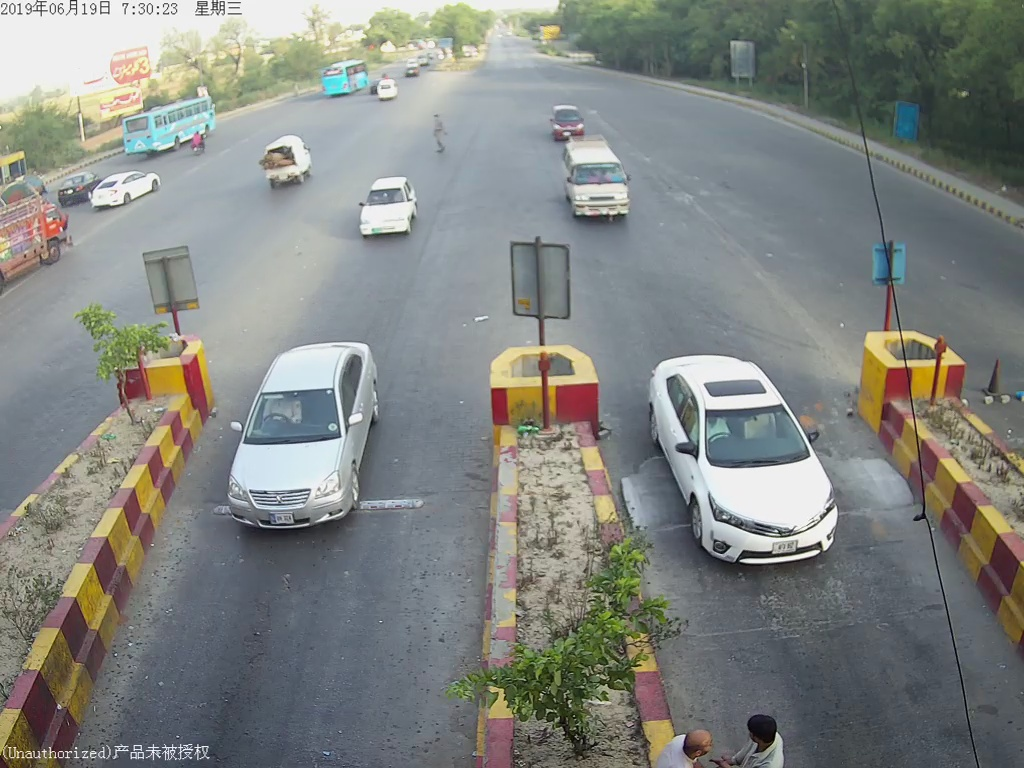Cat-1: (640, 343, 857, 572), (221, 341, 386, 534), (350, 169, 426, 248)
Cat-2: (555, 138, 641, 229)
